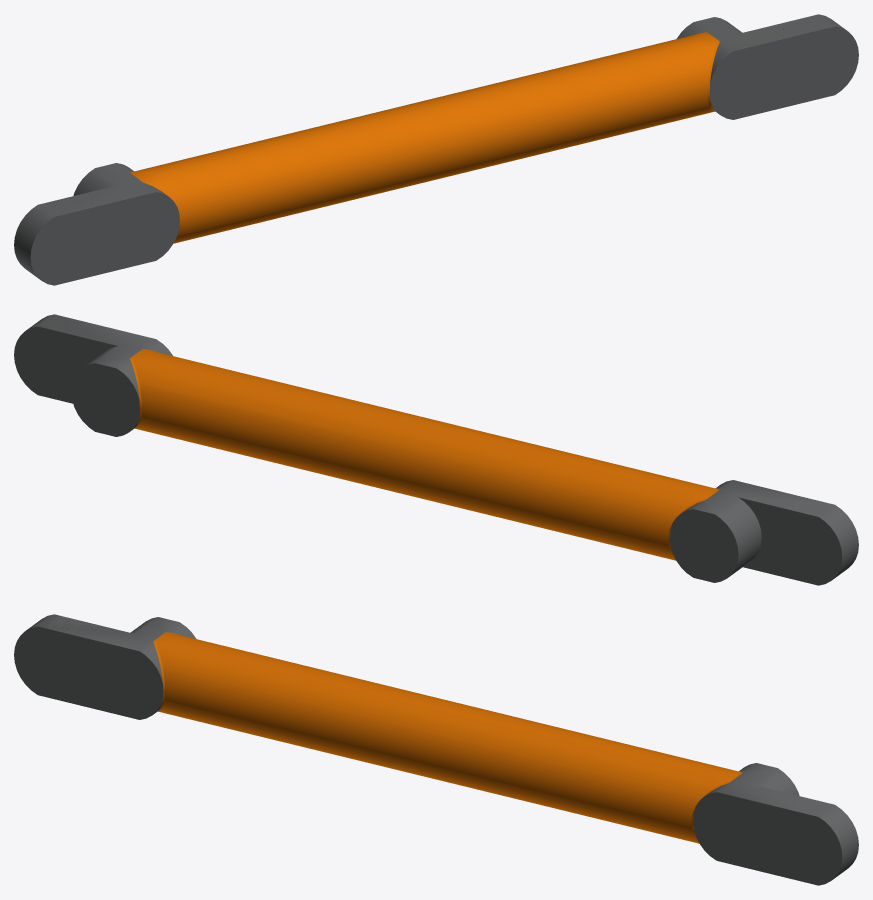
3 views of the same model, one above another, from view 1: azimuth 30°, elevation 25°; view 2: azimuth 150°, elevation 25°; view 3: azimuth 330°, elevation 25° (orthographic).
Parts seen in each view (by area): view 1: d3_LOD0, d3_col; view 2: d3_LOD0, d3_col; view 3: d3_LOD0, d3_col.
Part boxes in pixels (x1,y1,x2,y2): d3_LOD0: (14,14,858,285); d3_col: (30,14,858,285); d3_LOD0: (14,314,858,585); d3_col: (15,316,841,584); d3_LOD0: (14,614,858,885); d3_col: (14,615,842,883).
Size of what is drawn, in the model's own units: 144 by 11.93 by 12.
